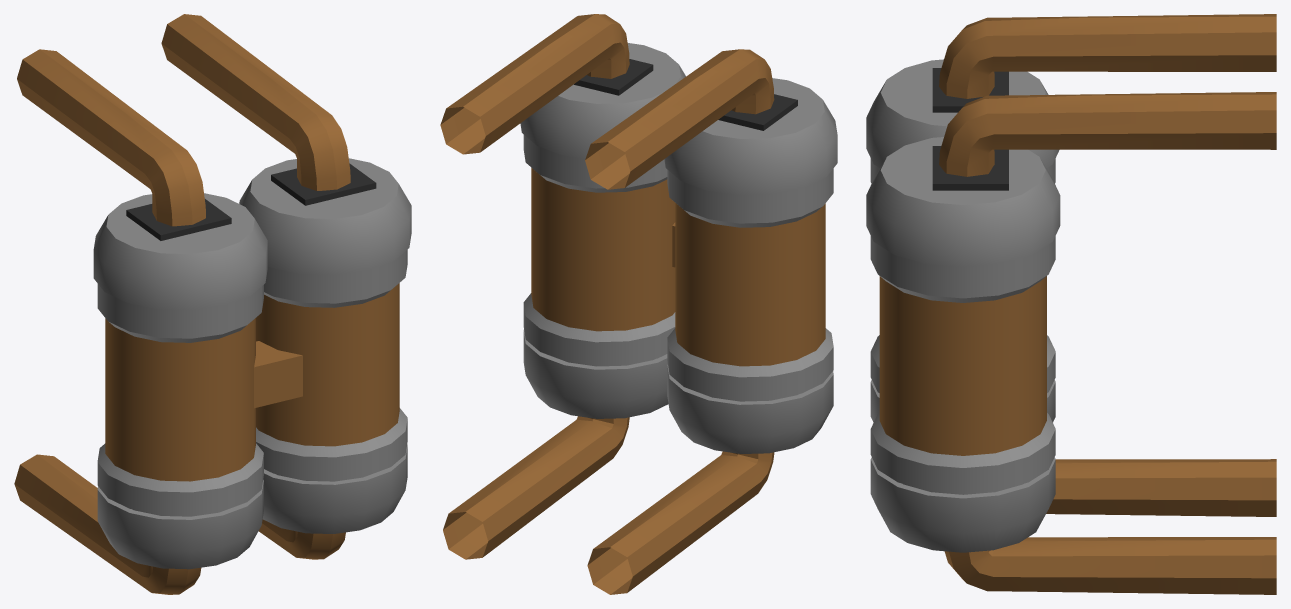
The model's file is tank.glb.
3 views of the same model, side by side, from view 1: azimuth 30°, elevation 25°; view 2: azimuth 150°, elevation 25°; view 3: azimuth 270°, elevation 25° (orthographic). The views are drawn at different scales.
Parts seen in each view (by area): view 1: Tank; view 2: Tank; view 3: Tank.
Part boxes in pixels (x1,y1,x2,y2): Tank: (14,14,411,594); Tank: (440,14,837,594); Tank: (866,14,1276,594).
Size of the model in its own units: 0.569 by 0.831 by 0.6189.
